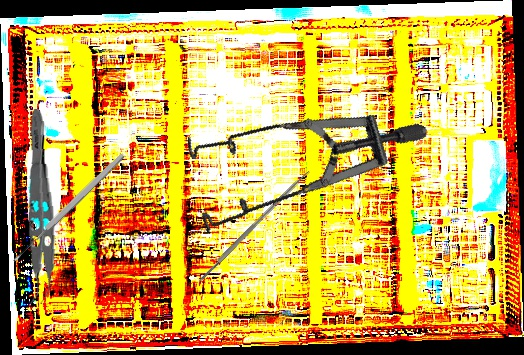Scalpel Handle: (195, 168, 312, 284)
Speculum: (161, 55, 430, 289)
Surgical Spoon: (10, 151, 127, 264)
Tissue Forceps: (12, 108, 61, 306)
